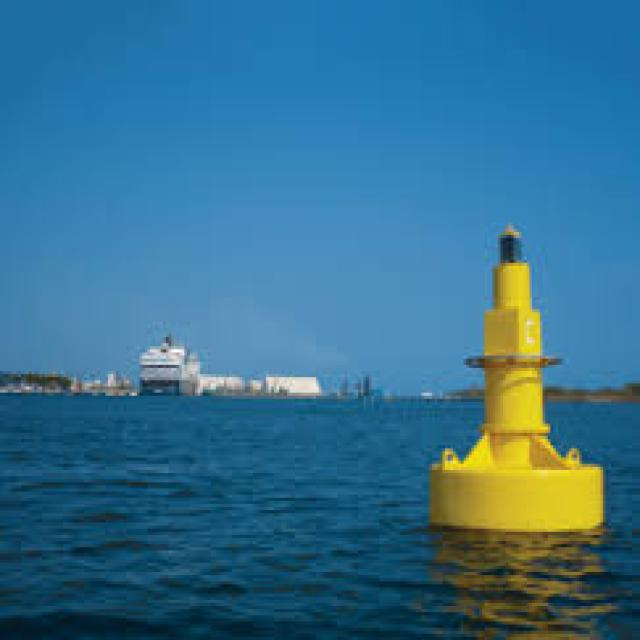marque: (409, 195, 615, 550)
